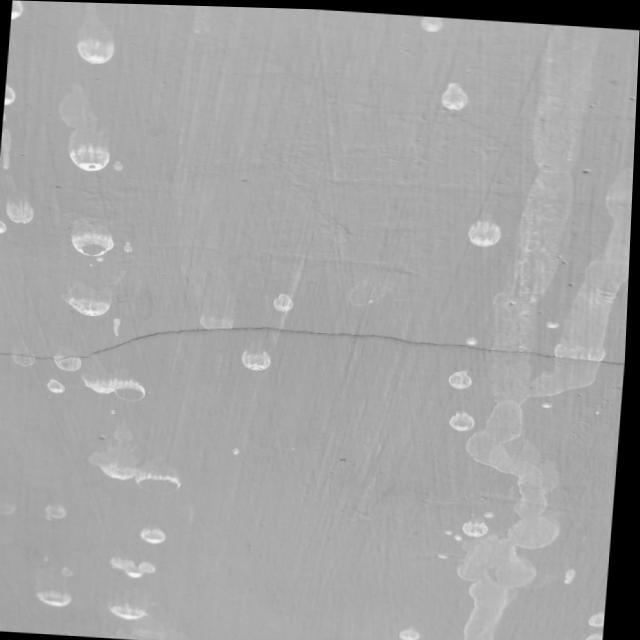Crack: (5, 321, 625, 369)
